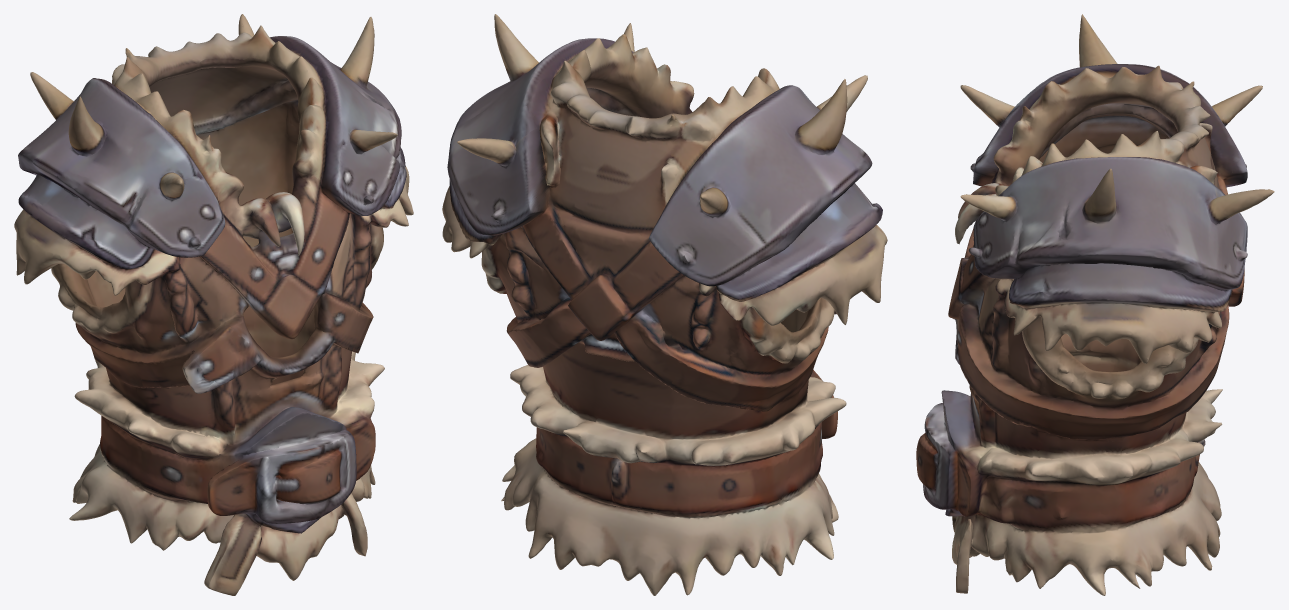
File: peito-barbaro.glb
The picture shows the model from 3 angles, left to right: view 1: azimuth 30°, elevation 25°; view 2: azimuth 150°, elevation 25°; view 3: azimuth 270°, elevation 25°; orthographic projection. The views are drawn at different scales.
Visible parts, largest first — view 1: tripo_node_f229ffa2-e08e-421b-a2ef-4f7bcf6025ce.001; view 2: tripo_node_f229ffa2-e08e-421b-a2ef-4f7bcf6025ce.001; view 3: tripo_node_f229ffa2-e08e-421b-a2ef-4f7bcf6025ce.001.
Part boxes in pixels (left/top/right/bottom): tripo_node_f229ffa2-e08e-421b-a2ef-4f7bcf6025ce.001: left=14, top=14, right=413, bottom=595; tripo_node_f229ffa2-e08e-421b-a2ef-4f7bcf6025ce.001: left=442, top=14, right=887, bottom=595; tripo_node_f229ffa2-e08e-421b-a2ef-4f7bcf6025ce.001: left=916, top=14, right=1274, bottom=595.
Size of the model in its own units: 0.2147 by 0.2596 by 0.176.
1 material, 1 textured.
